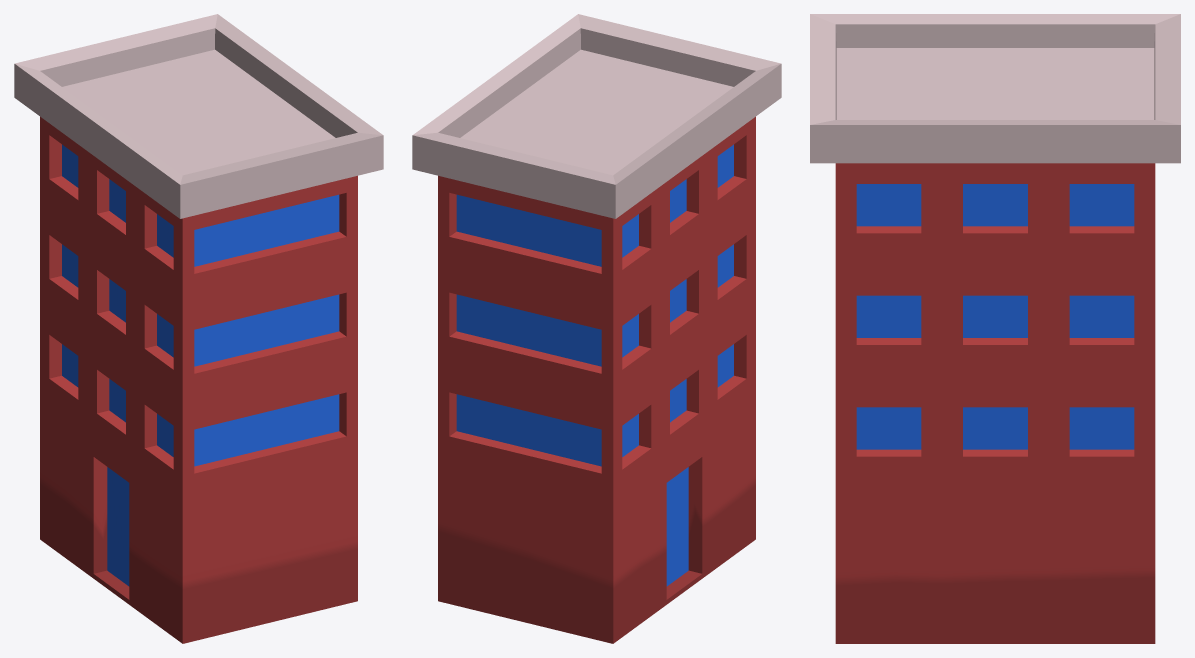
Rendered from house15.fbx.
The picture shows the model from 3 angles, left to right: view 1: azimuth 30°, elevation 25°; view 2: azimuth 150°, elevation 25°; view 3: azimuth 270°, elevation 25°; orthographic projection. The views are drawn at different scales.
Parts seen in each view (by area): view 1: building; view 2: building; view 3: building.
Part boxes in pixels (left/top/right/bottom): building: left=14, top=14, right=383, bottom=643; building: left=412, top=14, right=781, bottom=643; building: left=810, top=14, right=1180, bottom=643.
Bounding box in the file's own units: 650 × 1439 × 918.
